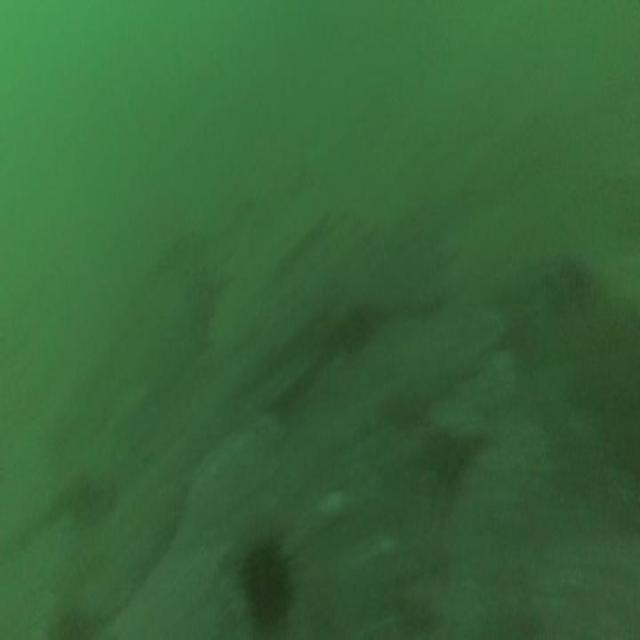echinus: (241, 547, 292, 629)
